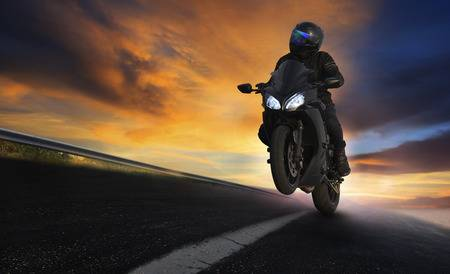helmet: (236, 16, 342, 199)
